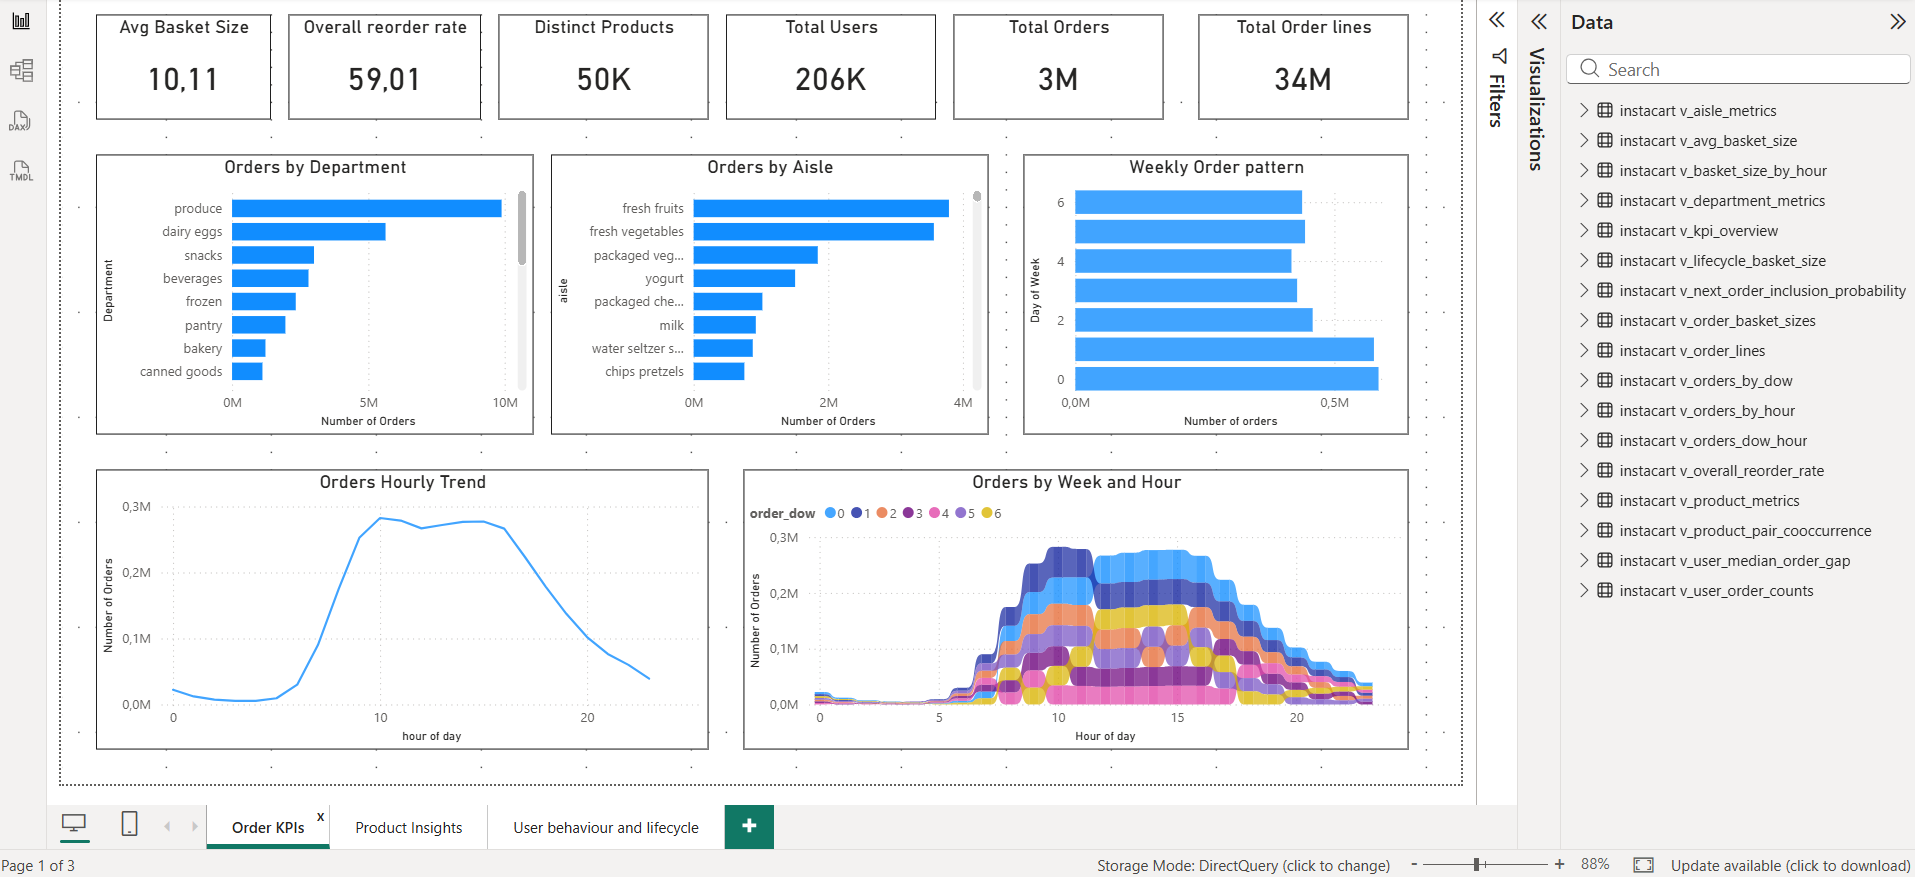

The dashboard page shown, as its layout file describes it:
{"tool":"powerbi","page":{"name":"Order KPIs","canvas":[1280,720],"ordinal":0},"visuals":[{"type":"card","title":"Avg Basket Size","fields":{"Values":["Sum(instacart v_kpi_overview.avg_basket_size)"]},"box":[32,16,160,96],"z":0},{"type":"card","title":"Distinct Products","fields":{"Values":["Sum(instacart v_kpi_overview.distinct_products)"]},"box":[400,16,192,96],"z":1000},{"type":"card","title":"Overall reorder rate","fields":{"Values":["Sum(instacart v_kpi_overview.overall_reorder_rate_pct)"]},"box":[208,16,176,96],"z":2000},{"type":"card","title":"Total Order lines","fields":{"Values":["Sum(instacart v_kpi_overview.total_order_lines)"]},"box":[1040,16,192,96],"z":3000},{"type":"card","title":"Total Orders","fields":{"Values":["Sum(instacart v_kpi_overview.total_orders)"]},"box":[816,16,192,96],"z":4000},{"type":"card","title":"Total Users","fields":{"Values":["Sum(instacart v_kpi_overview.total_users)"]},"box":[608,16,192,96],"z":5000},{"type":"clusteredBarChart","title":"Weekly Order pattern","fields":{"Category":["instacart v_orders_by_dow.day_of_week"],"Y":["Sum(instacart v_orders_by_dow.number_of_orders)"]},"box":[880,144,352,256],"z":6000},{"type":"areaChart","title":"Orders Hourly Trend","fields":{"Y":["Sum(instacart v_orders_by_hour.number_of_orders)"],"Category":["instacart v_orders_by_hour.hour_of_day"]},"box":[32,432,560,256],"z":7000},{"type":"clusteredBarChart","title":"Orders by Department","fields":{"Category":["instacart v_department_metrics.department"],"Y":["Sum(instacart v_department_metrics.order_count)"]},"box":[32,144,400,256],"z":8000},{"type":"clusteredBarChart","title":"Orders by Aisle","fields":{"Y":["Sum(instacart v_aisle_metrics.order_count)"],"Category":["instacart v_aisle_metrics.aisle"]},"box":[448,144,400,256],"z":9000},{"type":"ribbonChart","title":"Orders by Week and Hour","fields":{"Category":["instacart v_orders_dow_hour.hour_of_day"],"Y":["Sum(instacart v_orders_dow_hour.number_of_orders)"],"Series":["instacart v_orders_dow_hour.order_dow"]},"box":[624,432,608,256],"z":10000}]}

Visuals, with their boxes on the page's 1280x720 design canvas (x1, y1, x2, y2). These are canvas units, not pixel positions in the 1915x877 screenshot, which may show the page scaled, cropped or inside an application window:
"Avg Basket Size" card: 32,16,192,112
"Distinct Products" card: 400,16,592,112
"Overall reorder rate" card: 208,16,384,112
"Total Order lines" card: 1040,16,1232,112
"Total Orders" card: 816,16,1008,112
"Total Users" card: 608,16,800,112
"Weekly Order pattern" clusteredBarChart: 880,144,1232,400
"Orders Hourly Trend" areaChart: 32,432,592,688
"Orders by Department" clusteredBarChart: 32,144,432,400
"Orders by Aisle" clusteredBarChart: 448,144,848,400
"Orders by Week and Hour" ribbonChart: 624,432,1232,688
